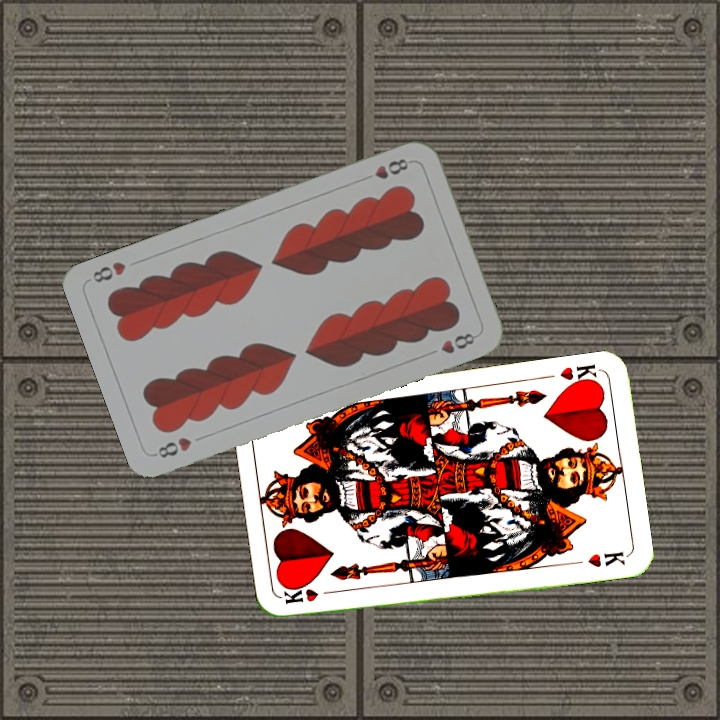H8: (358, 154, 415, 184), (151, 433, 195, 461)
HK: (556, 360, 602, 390), (280, 585, 340, 607)
